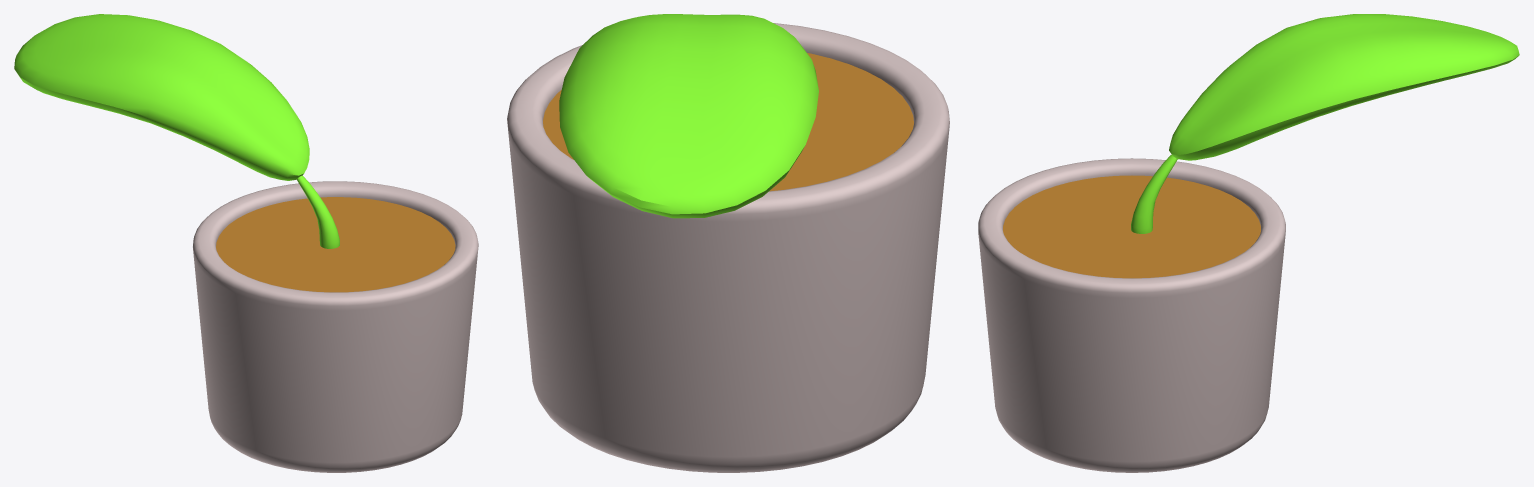
The model's file is flower_pot_a1.glb.
3 renders of one model, left to right at view 1: azimuth 30°, elevation 25°; view 2: azimuth 150°, elevation 25°; view 3: azimuth 270°, elevation 25°, orthographic. The views are drawn at different scales.
Visible parts, largest first — view 1: Pot, Leaf; view 2: Pot, Leaf; view 3: Pot, Leaf.
Part boxes in pixels (bbox=[...]): Pot: bbox=[193, 181, 478, 472]; Leaf: bbox=[14, 14, 339, 248]; Pot: bbox=[507, 23, 949, 472]; Leaf: bbox=[559, 14, 818, 218]; Pot: bbox=[978, 158, 1285, 472]; Leaf: bbox=[1131, 14, 1519, 233].
Size of the model in its own units: 0.942 by 0.9967 by 1.39.
